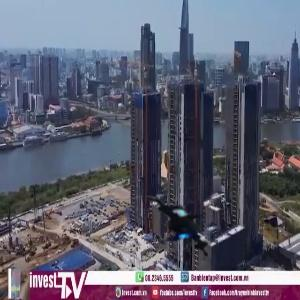drone: (132, 184, 220, 272)
